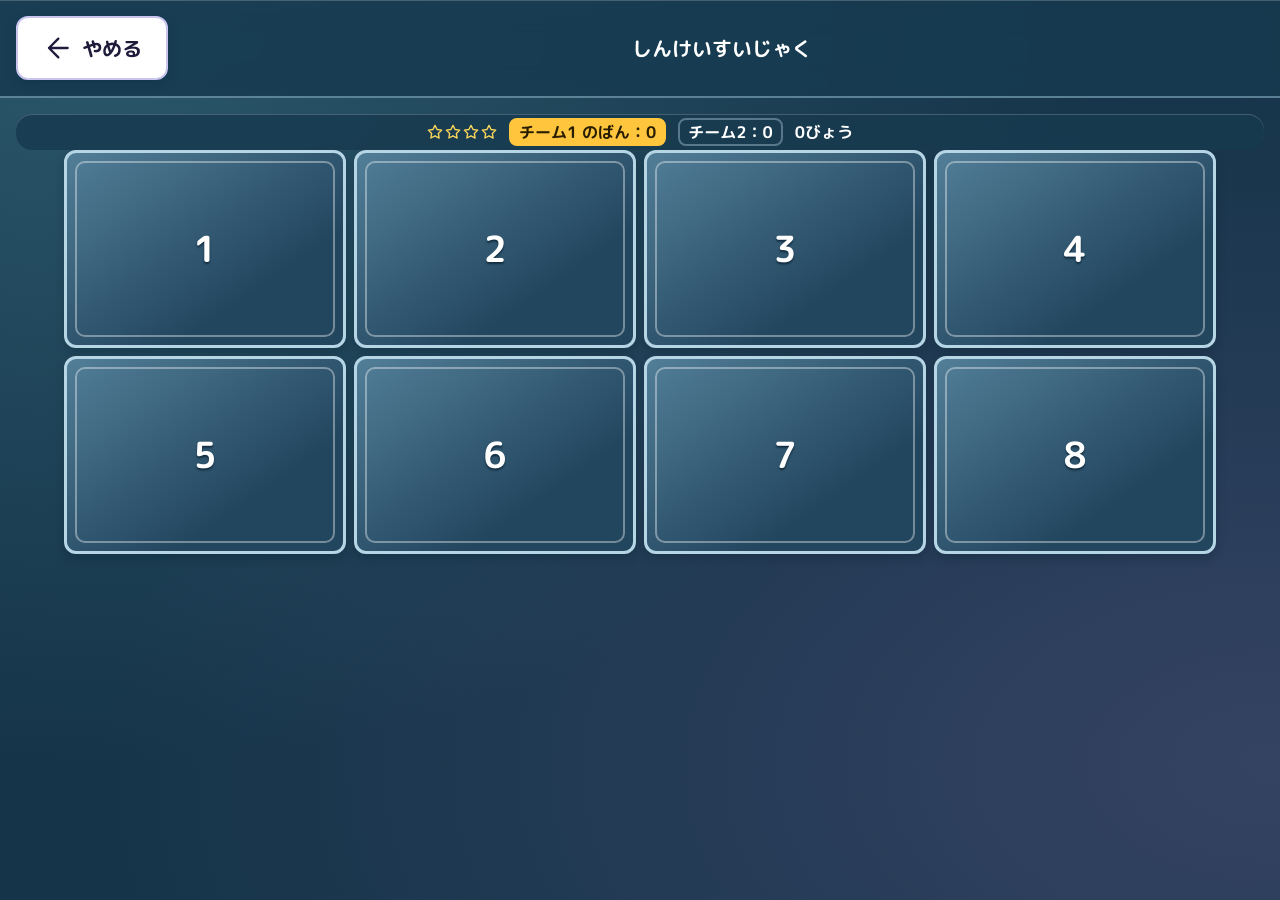
Test: 神経衰弱 › 教師がチーム対抗を指定したときは協力人数を混ぜない
The image size is (1280, 900).
Click the button named "カード 1" at (205, 249), box [64,150,346,348]
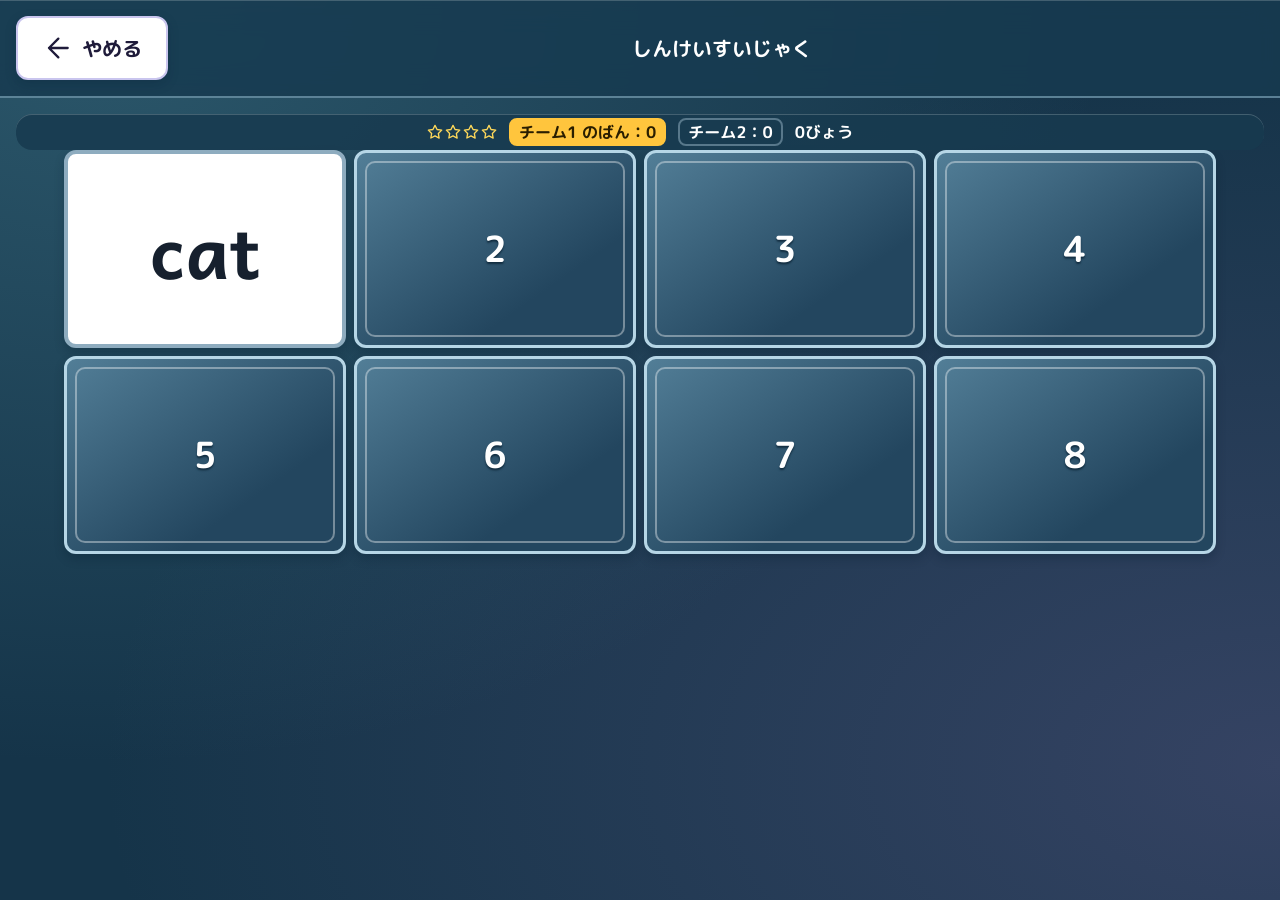
Click the button named "カード 3" at (785, 249), box [644,150,926,348]
Wait 900 ms
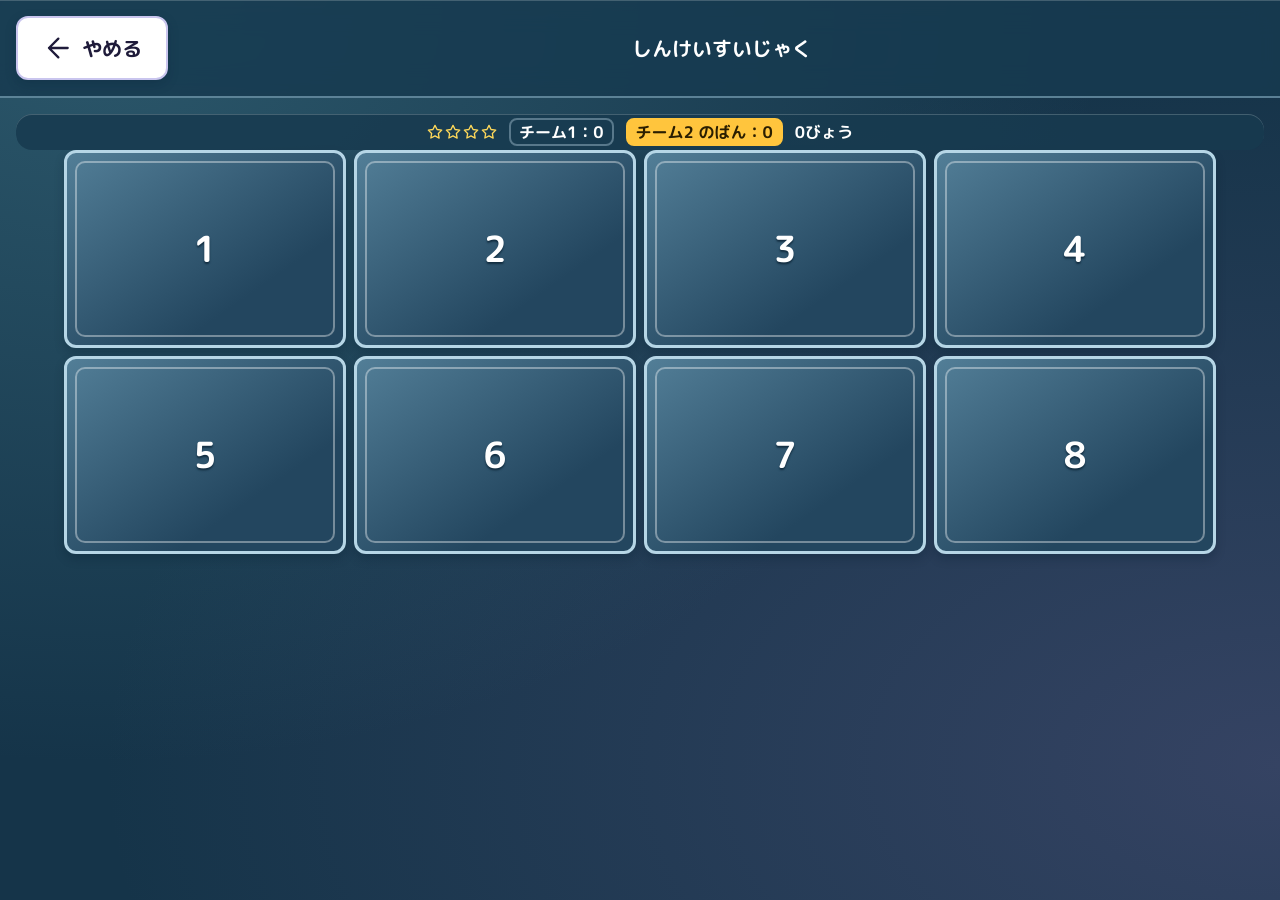
Check: the text "チーム2 のばん：0" is shown, box [626,118,783,146]
